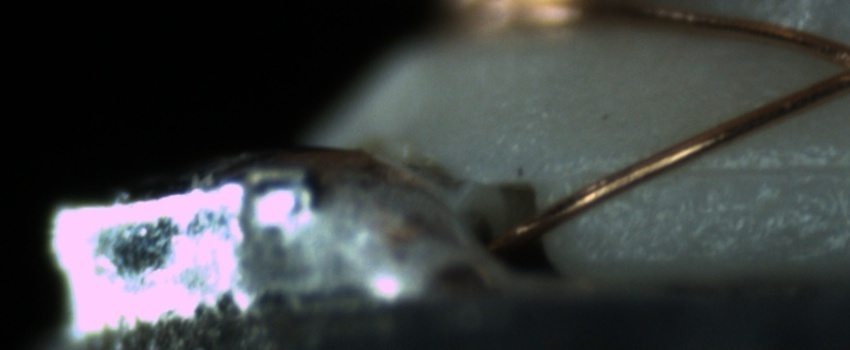DL: (606, 135, 848, 200)
